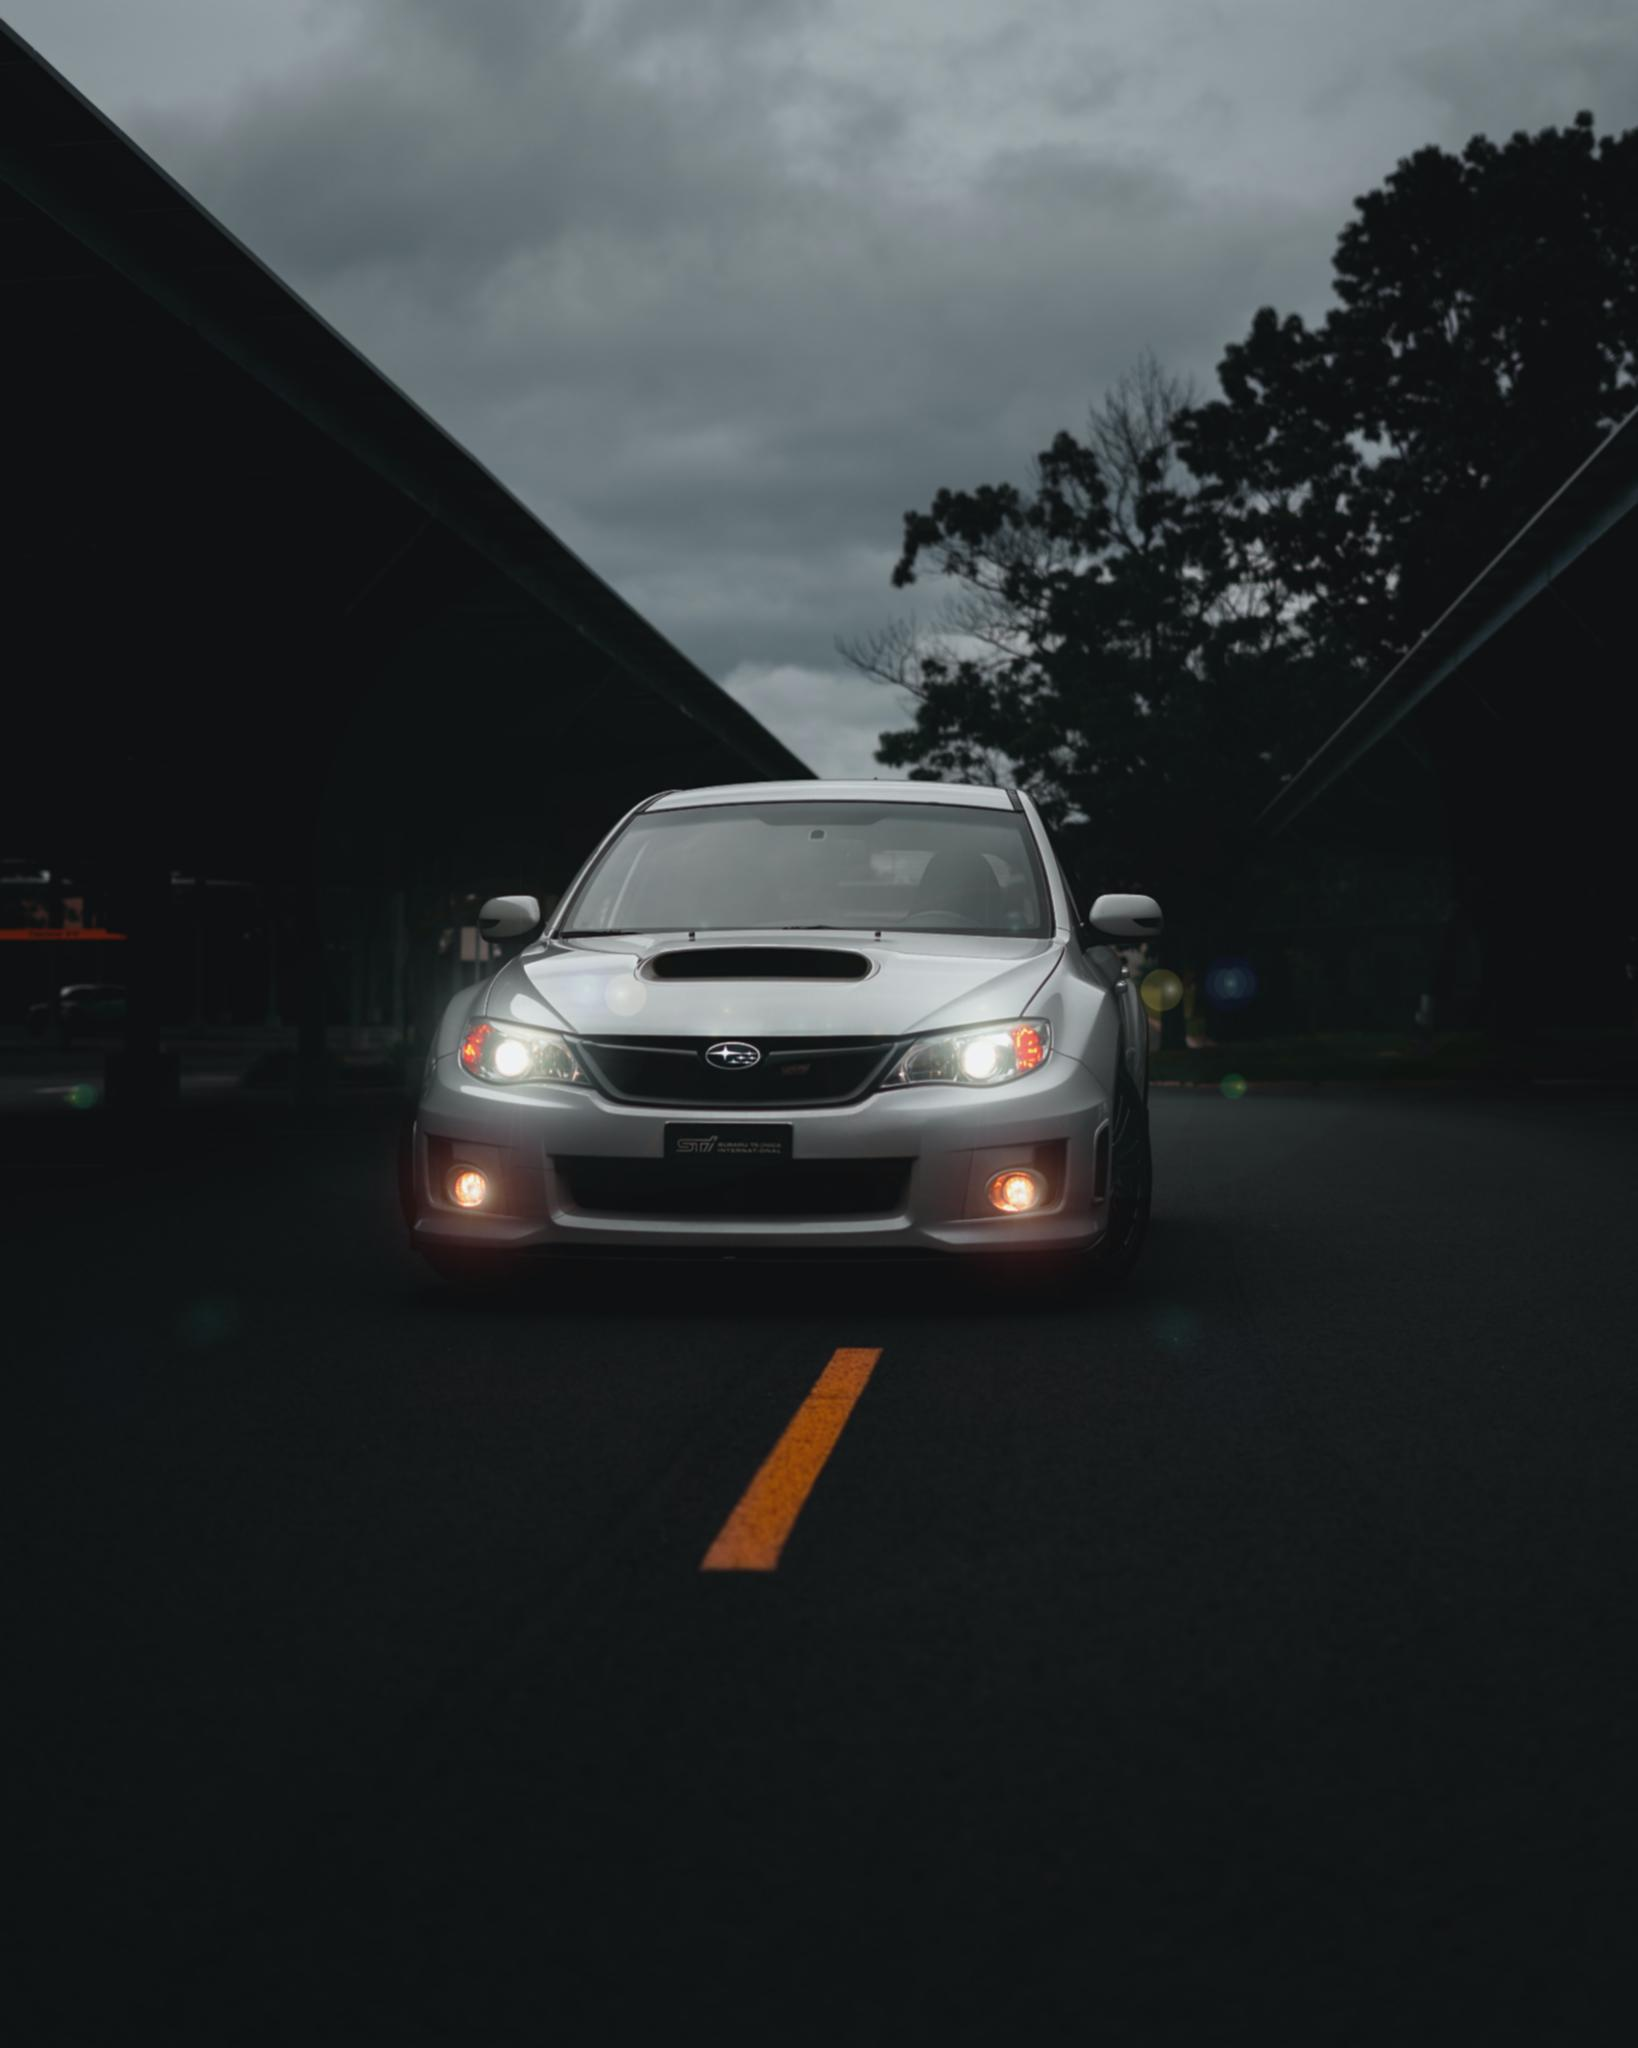subaru: (670, 1020, 784, 1103)
